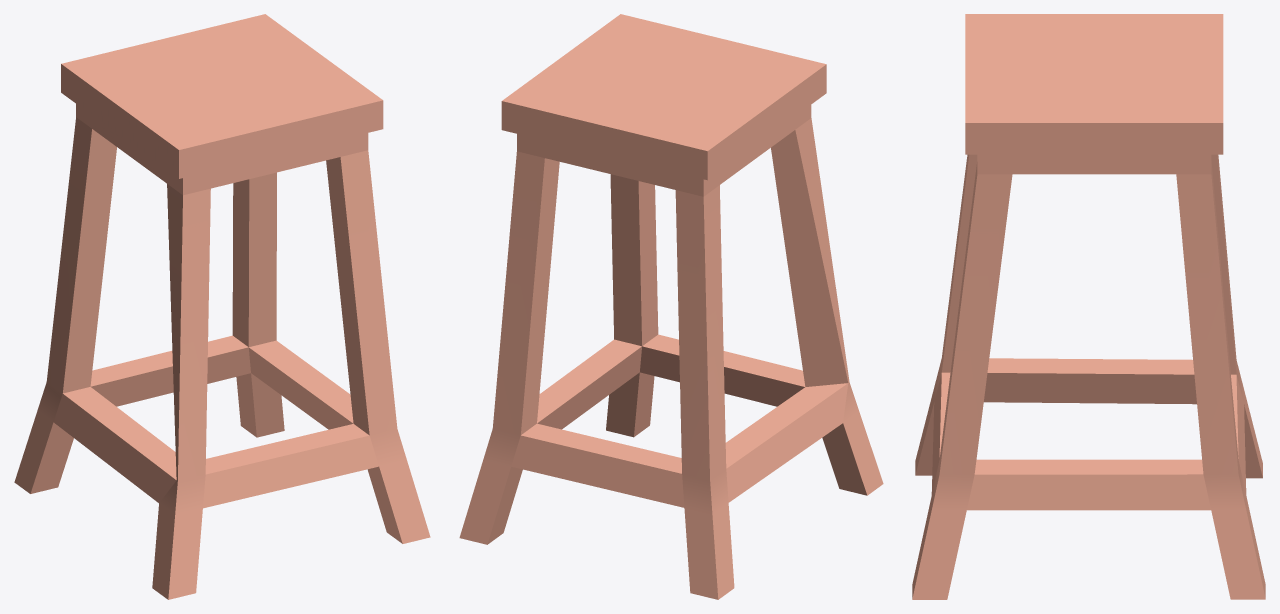
File: counter chair.fbx
3 renders of one model, left to right at view 1: azimuth 30°, elevation 25°; view 2: azimuth 150°, elevation 25°; view 3: azimuth 270°, elevation 25°, orthographic. The views are drawn at different scales.
Parts seen in each view (by area): view 1: pCube13; view 2: pCube13; view 3: pCube13.
Boxes of the visible parts, x1,y1,x2,y2 form: pCube13: (14, 14, 430, 599); pCube13: (459, 14, 883, 599); pCube13: (912, 14, 1265, 599).
Size of the model in its own units: 3.33 by 5.19 by 3.58.
